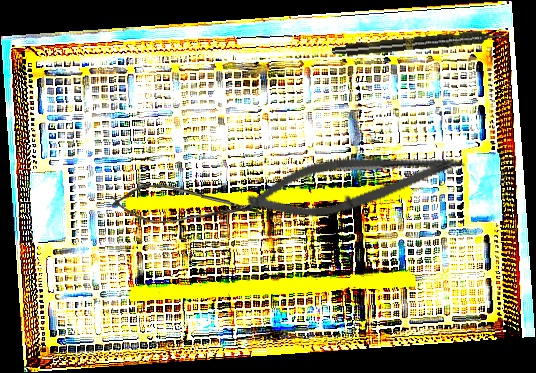Handpiece: (331, 28, 510, 59)
Micro Scissor: (242, 127, 470, 234), (109, 183, 265, 227)
